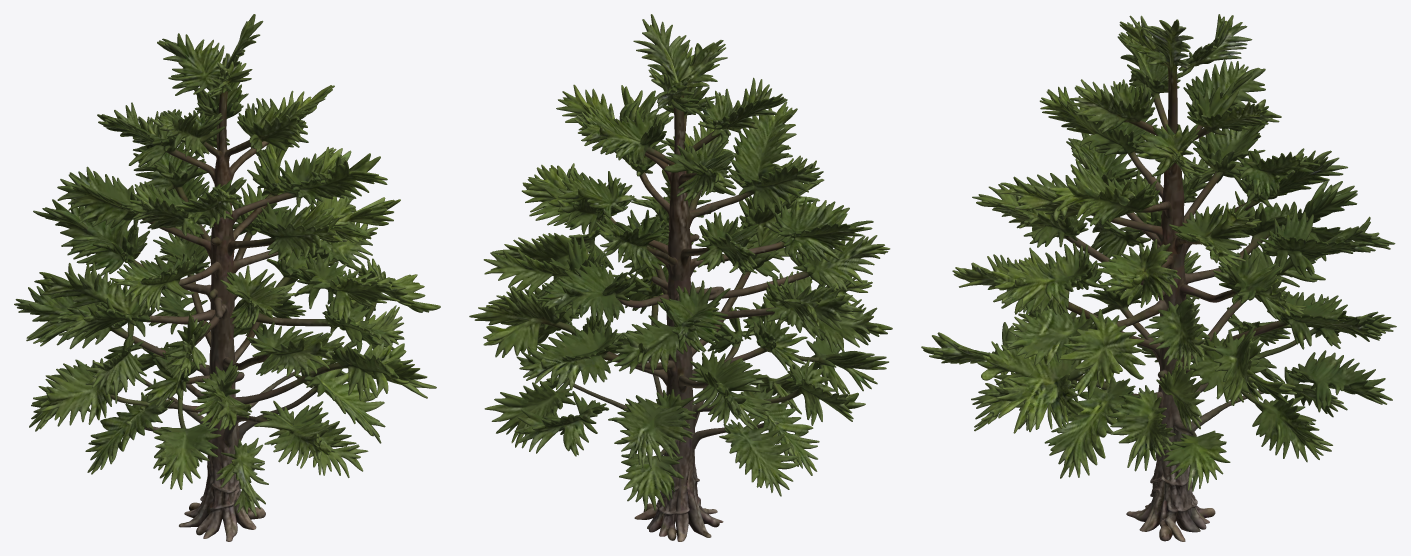
File: araucaria.glb
3 views of the same model, side by side, from view 1: azimuth 30°, elevation 25°; view 2: azimuth 150°, elevation 25°; view 3: azimuth 270°, elevation 25° (orthographic). The views are drawn at different scales.
Visible parts, largest first — view 1: tripo_node_ac96ccd2-c9fc-4a82-b111-3316d84dbcdf; view 2: tripo_node_ac96ccd2-c9fc-4a82-b111-3316d84dbcdf; view 3: tripo_node_ac96ccd2-c9fc-4a82-b111-3316d84dbcdf.
Part boxes in pixels (bbox=[...]): tripo_node_ac96ccd2-c9fc-4a82-b111-3316d84dbcdf: bbox=[14, 14, 440, 541]; tripo_node_ac96ccd2-c9fc-4a82-b111-3316d84dbcdf: bbox=[469, 14, 892, 541]; tripo_node_ac96ccd2-c9fc-4a82-b111-3316d84dbcdf: bbox=[921, 14, 1396, 541].
Bounding box in the file's own units: 0.7494 × 0.9787 × 0.8115.
Materials: 1 (1 with a texture image).
